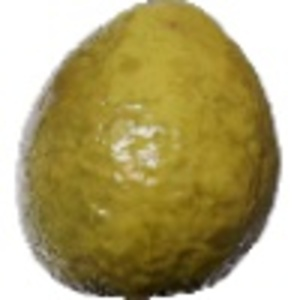goiaba: (12, 5, 287, 292)
